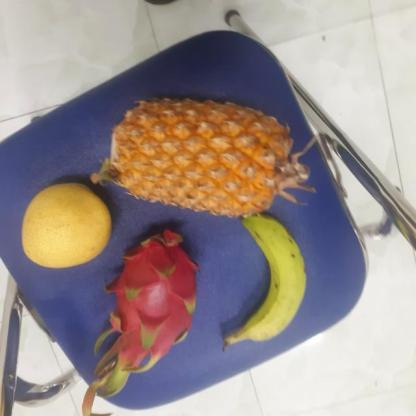banana: (224, 216, 313, 344)
pear: (21, 182, 116, 271)
pineapple: (102, 96, 304, 213)
pitaya: (101, 232, 203, 366)
